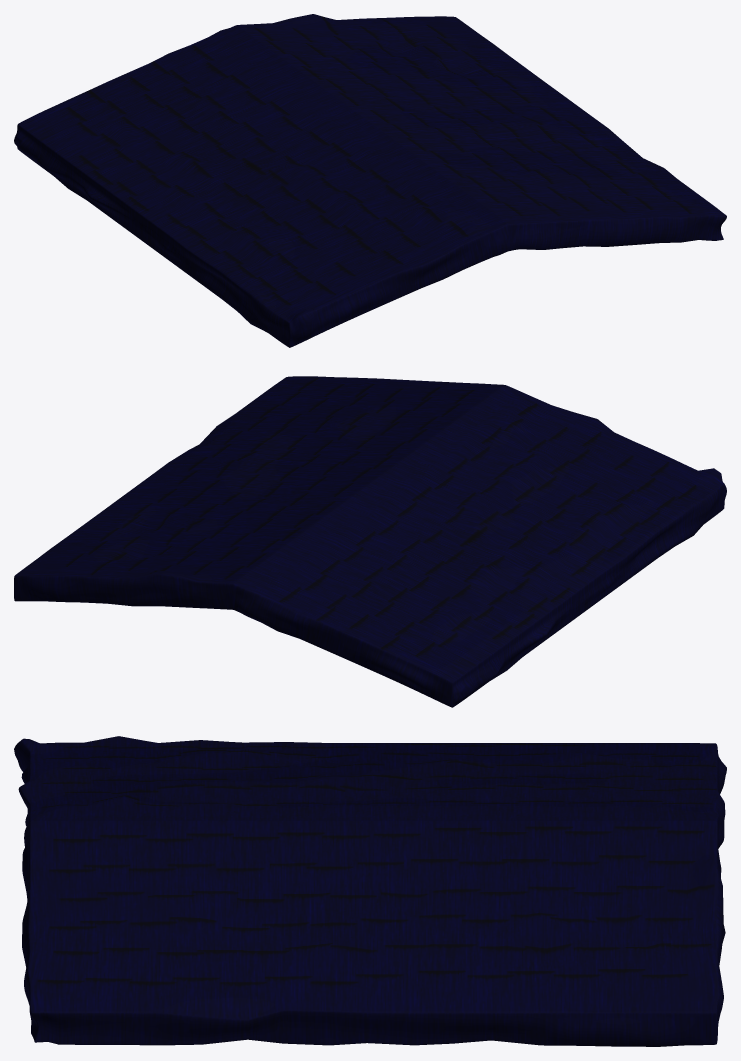
3 views of the same model, one above another, from view 1: azimuth 30°, elevation 25°; view 2: azimuth 150°, elevation 25°; view 3: azimuth 270°, elevation 25° (orthographic). The views are drawn at different scales.
Parts seen in each view (by area): view 1: schoolRoof; view 2: schoolRoof; view 3: schoolRoof.
Boxes of the visible parts, x1,y1,x2,y2 form: schoolRoof: (14,14,726,347); schoolRoof: (14,376,726,707); schoolRoof: (14,736,726,1046).
Size of the model in its own units: 2307 by 350 by 2486.
1 material, 1 textured.
